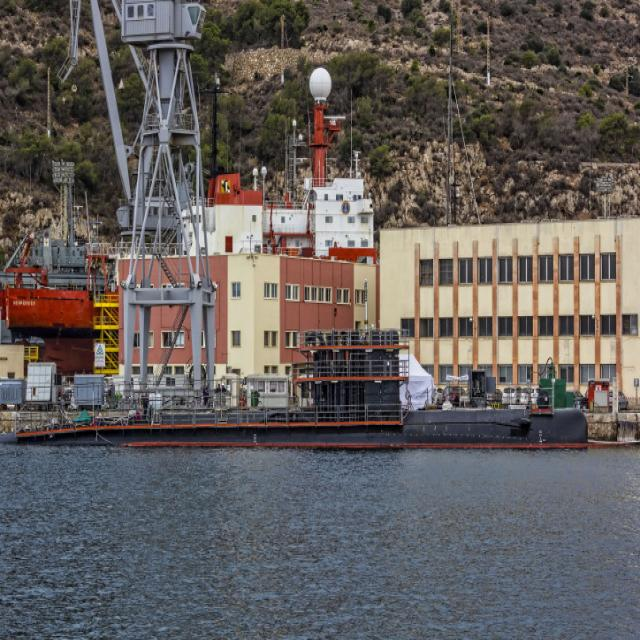submarine: (11, 330, 597, 451)
